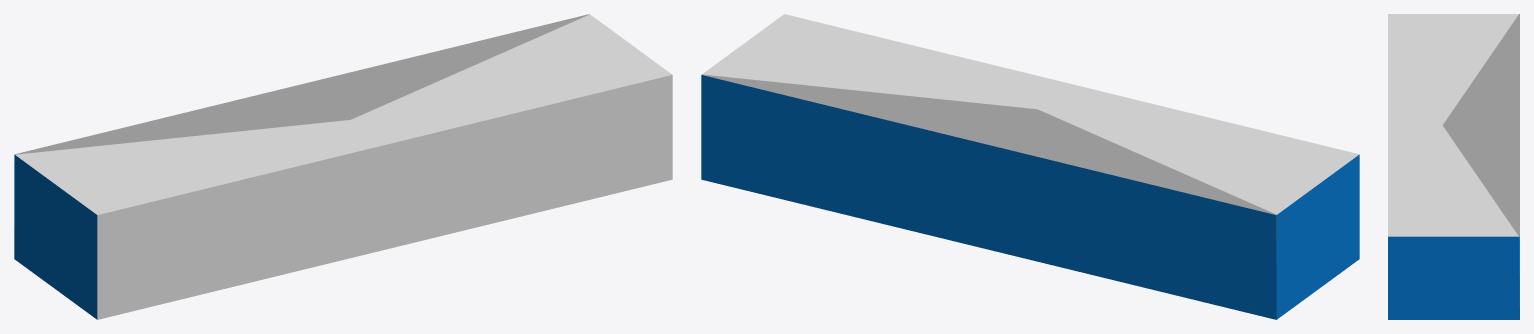
Rendered from ceyrek.fbx.
The picture shows the model from 3 angles, left to right: view 1: azimuth 30°, elevation 25°; view 2: azimuth 150°, elevation 25°; view 3: azimuth 270°, elevation 25°; orthographic projection. The views are drawn at different scales.
Visible parts, largest first — view 1: polySurface92; view 2: polySurface92; view 3: polySurface92.
Boxes of the visible parts, left/top/right/bottom form: polySurface92: left=14, top=14, right=672, bottom=319; polySurface92: left=701, top=14, right=1359, bottom=319; polySurface92: left=1388, top=14, right=1519, bottom=319.
Size of the model in its own units: 224 by 38.92 by 55.94.
